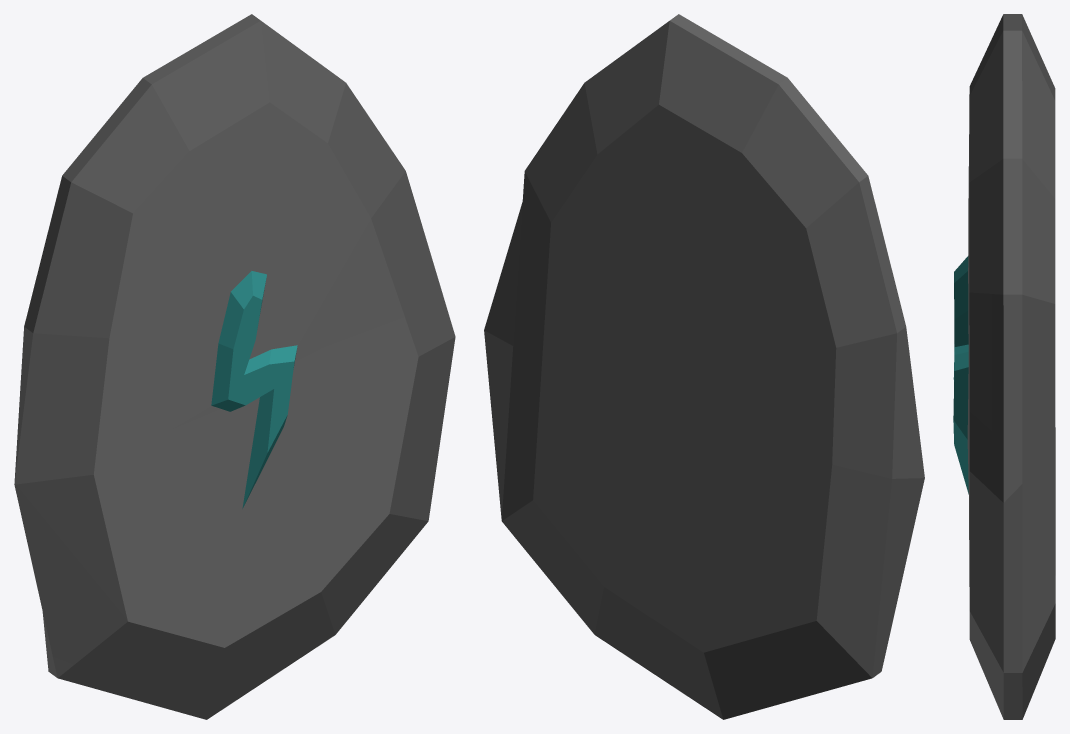
File: green rune.fbx
3 renders of one model, left to right at view 1: azimuth 30°, elevation 25°; view 2: azimuth 150°, elevation 25°; view 3: azimuth 270°, elevation 25°, orthographic. The views are drawn at different scales.
Parts seen in each view (by area): view 1: green rune; view 2: green rune; view 3: green rune.
Boxes of the visible parts, <box> form: green rune: <box>14,14,455,719</box>; green rune: <box>484,14,924,719</box>; green rune: <box>953,14,1055,719</box>.
Size of the model in its own units: 316 by 470 by 61.51.
